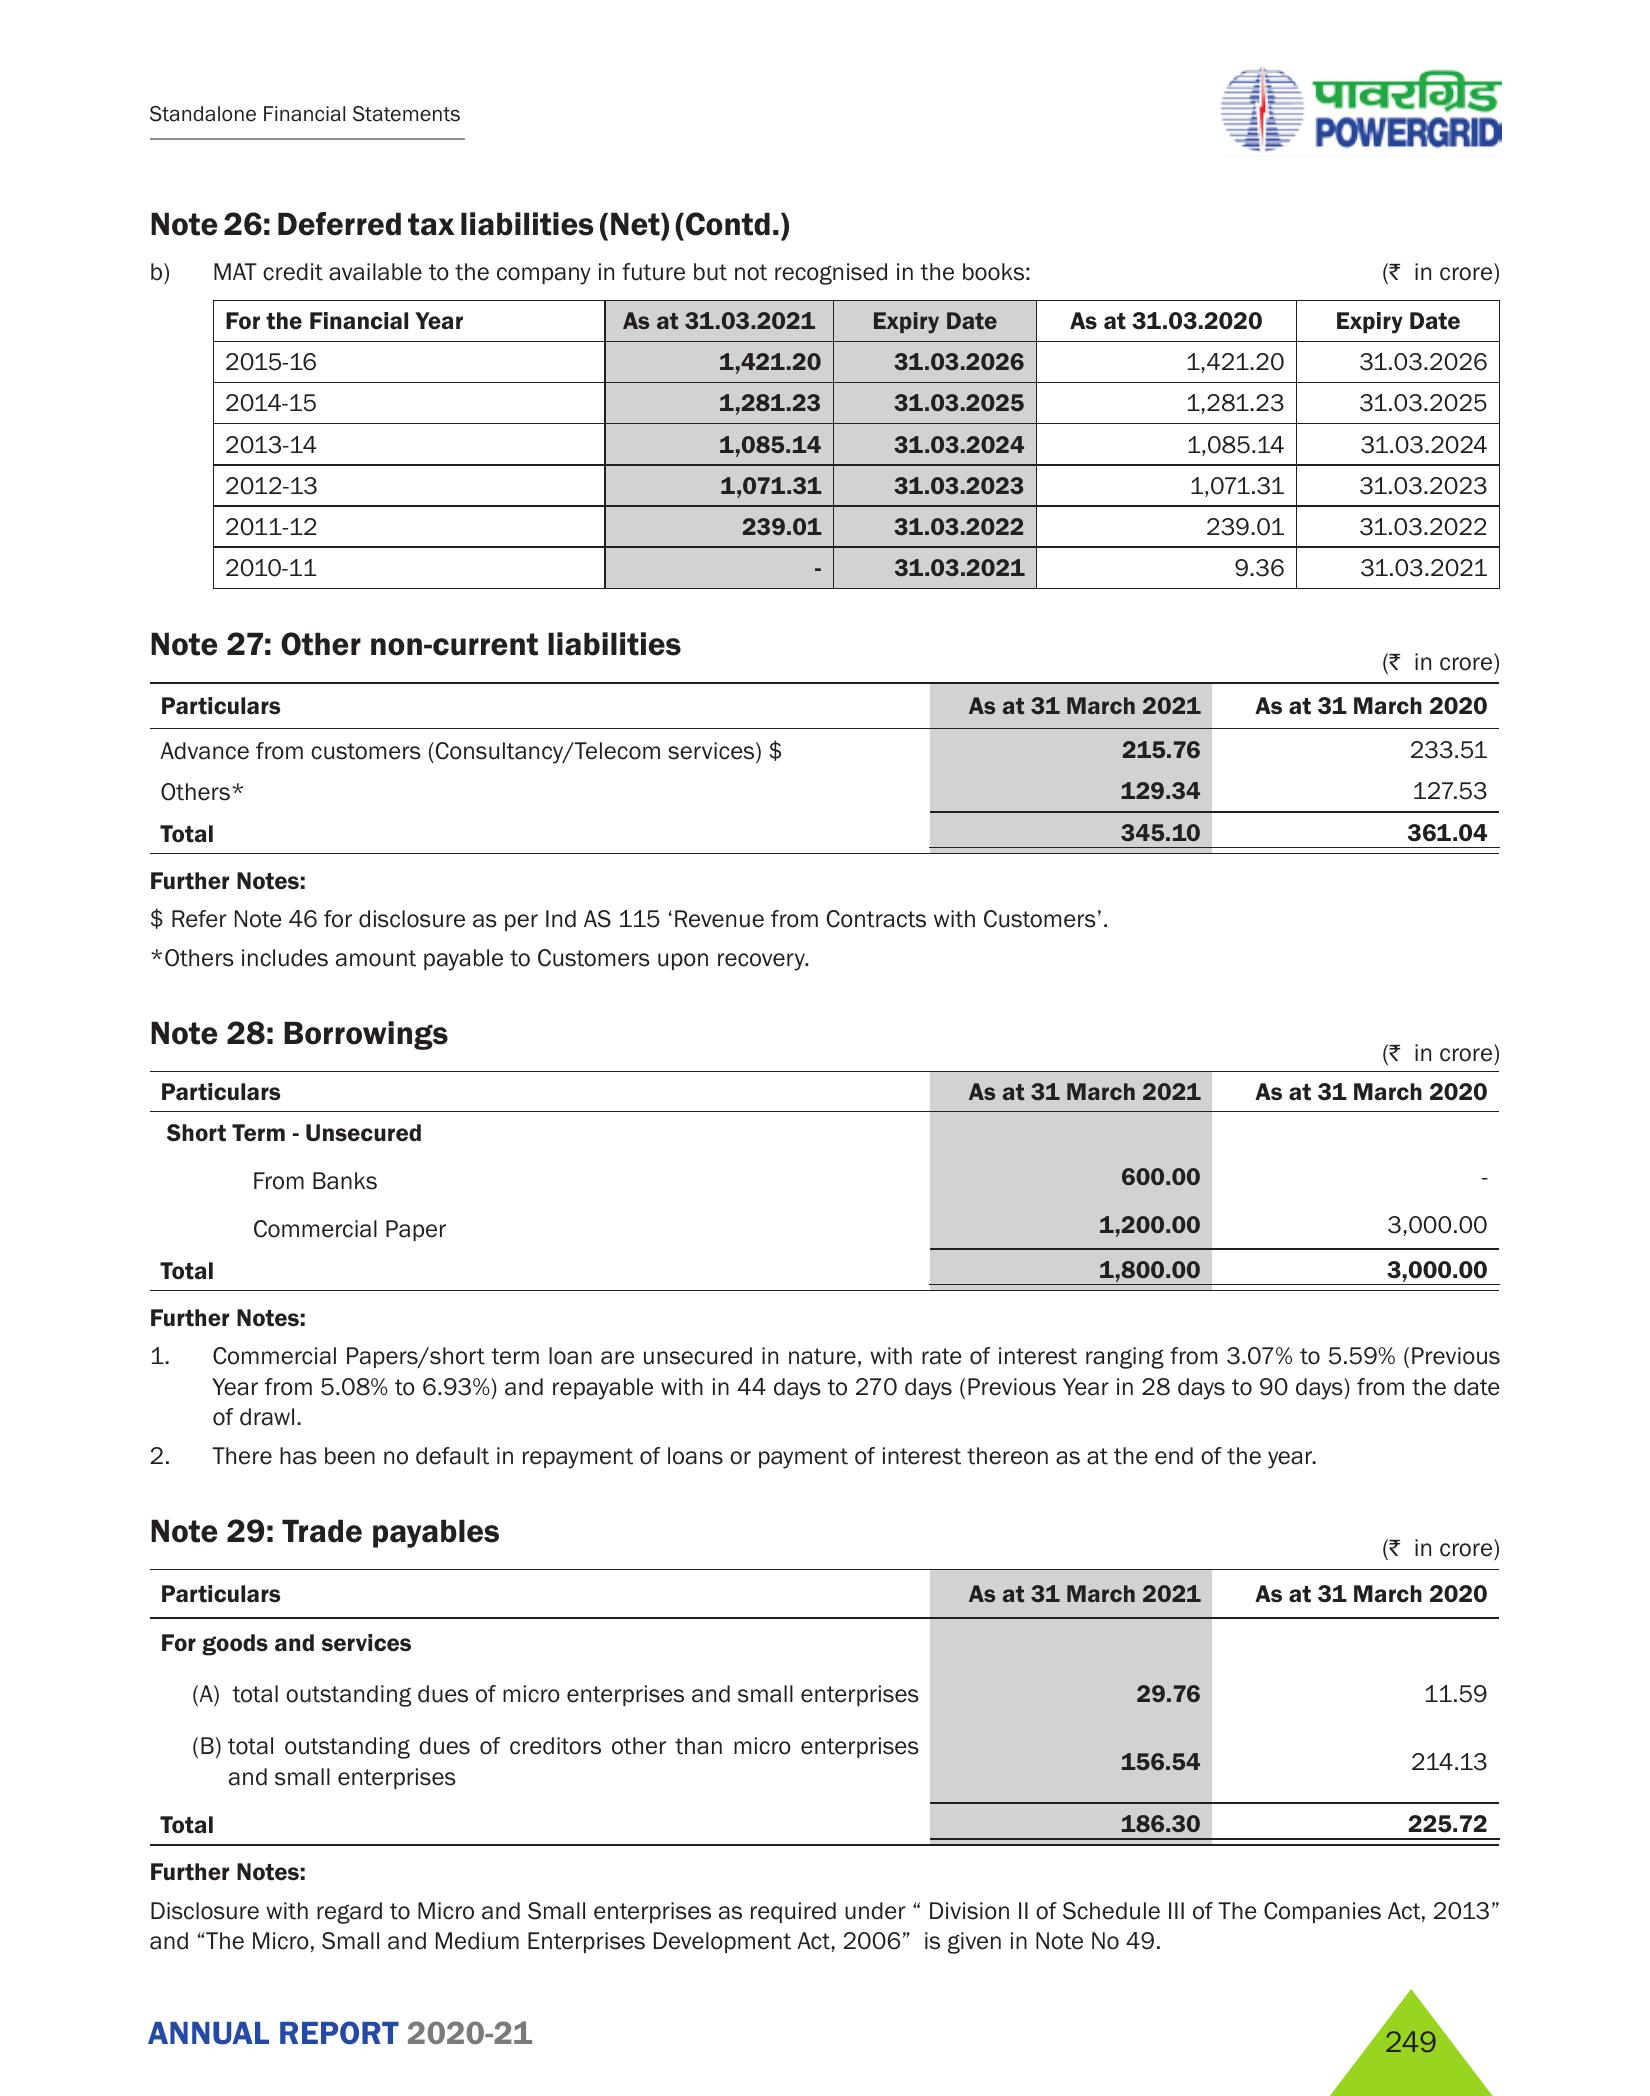Footer: (0, 1974, 1650, 2096)
Header: (0, 0, 1650, 172)
Table: (99, 1569, 1495, 1843), (201, 294, 1521, 580), (111, 1070, 1521, 1283), (102, 679, 1504, 854)
